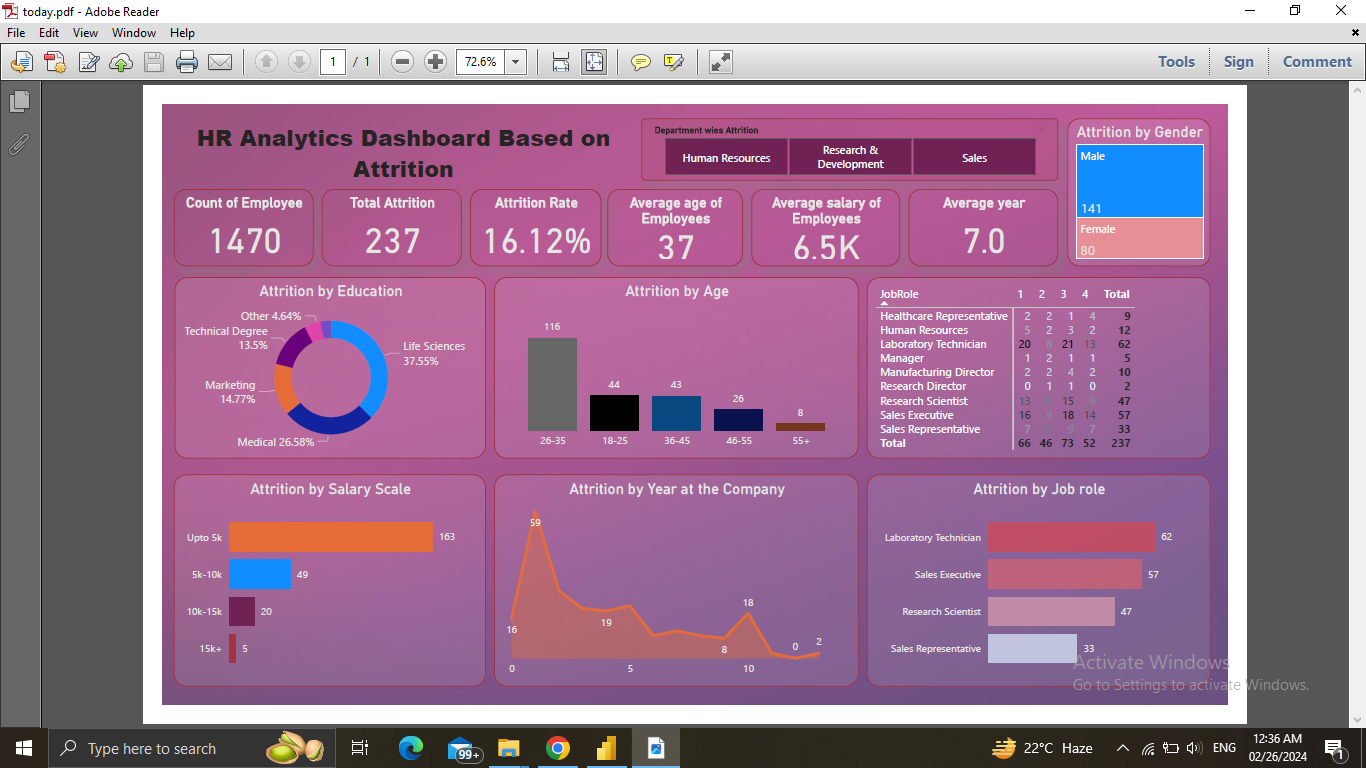

The page's visual inventory and layout, read from the dashboard file:
{"tool":"powerbi","page":{"name":"Page 1","canvas":[1280,720],"ordinal":0},"visuals":[{"type":"card","title":"Count of Employee","fields":{"Values":["CountNonNull(HR_Analytics.EmpID)"]},"box":[12.8,100.6,168.7,93.5],"z":0},{"type":"card","title":"Total Attrition","fields":{"Values":["Sum(HR_Analytics.AttritionCount)"]},"box":[191.3,100.6,167.2,93.5],"z":1000},{"type":"card","title":"Attrition Rate","fields":{"Values":["HR_Analytics.AttritionRate"]},"box":[368.5,100.6,158.7,93.5],"z":2000},{"type":"card","title":"Average age of Employees","fields":{"Values":["Avg(HR_Analytics.Age)"]},"box":[534.3,100.6,163,93.5],"z":3000},{"type":"card","title":"Average salary of Employees","fields":{"Values":["Avg(HR_Analytics.MonthlyIncome)"]},"box":[707.2,100.6,178.6,93.5],"z":4000},{"type":"card","title":"Average year","fields":{"Values":["Avg(HR_Analytics.YearsAtCompany)"]},"box":[895.7,100.6,180,93.5],"z":5000},{"type":"donutChart","title":"Attrition by Education","fields":{"Category":["HR_Analytics.EducationField"],"Y":["Sum(HR_Analytics.AttritionCount)"]},"box":[14.2,206.9,374.2,218.3],"z":6000},{"type":"columnChart","title":"Attrition by Age","fields":{"Y":["Sum(HR_Analytics.AttritionCount)"],"Category":["HR_Analytics.AgeGroup"]},"box":[398.3,206.9,438,218.3],"z":7000},{"type":"pivotTable","fields":{"Rows":["HR_Analytics.JobRole"],"Columns":["HR_Analytics.JobSatisfaction"],"Values":["Sum(HR_Analytics.AttritionCount)"]},"box":[846.1,206.9,412.4,218.3],"z":8000},{"type":"barChart","title":"Attrition by Salary Scale","fields":{"Category":["HR_Analytics.SalarySlab"],"Y":["Sum(HR_Analytics.AttritionCount)"]},"box":[12.8,443.6,375.6,255.1],"z":9000},{"type":"barChart","title":"Attrition by Job role","fields":{"Y":["Sum(HR_Analytics.AttritionCount)"],"Category":["HR_Analytics.JobRole"]},"box":[846.1,443.6,412.4,255.1],"z":10000},{"type":"areaChart","title":"Attrition by Year at the Company","fields":{"Category":["HR_Analytics.YearsAtCompany"],"Y":["Sum(HR_Analytics.AttritionCount)"]},"box":[398.3,443.6,438,255.1],"z":11000},{"type":"treemap","title":"Attrition by Gender","fields":{"Group":["HR_Analytics.Gender"],"Values":["Sum(HR_Analytics.AttritionCount)"]},"box":[1087.1,15.6,171.5,178.6],"z":12000},{"type":"slicer","fields":{"Values":["HR_Analytics.Department"]},"box":[575.4,15.6,500.3,75.1],"z":13000},{"type":"textbox","box":[13.8,15,550,86.2],"z":14000}]}

Visuals, with their boxes on the page's 1280x720 design canvas (x1, y1, x2, y2). These are canvas units, not pixel positions in the 1366x768 screenshot, which may show the page scaled, cropped or inside an application window:
"Count of Employee" card: box(13, 101, 182, 194)
"Total Attrition" card: box(191, 101, 358, 194)
"Attrition Rate" card: box(368, 101, 527, 194)
"Average age of Employees" card: box(534, 101, 697, 194)
"Average salary of Employees" card: box(707, 101, 886, 194)
"Average year" card: box(896, 101, 1076, 194)
"Attrition by Education" donutChart: box(14, 207, 388, 425)
"Attrition by Age" columnChart: box(398, 207, 836, 425)
pivotTable - HR_Analytics.JobRole x HR_Analytics.JobSatisfaction: box(846, 207, 1258, 425)
"Attrition by Salary Scale" barChart: box(13, 444, 388, 699)
"Attrition by Job role" barChart: box(846, 444, 1258, 699)
"Attrition by Year at the Company" areaChart: box(398, 444, 836, 699)
"Attrition by Gender" treemap: box(1087, 16, 1259, 194)
slicer - HR_Analytics.Department: box(575, 16, 1076, 91)
textbox: box(14, 15, 564, 101)
